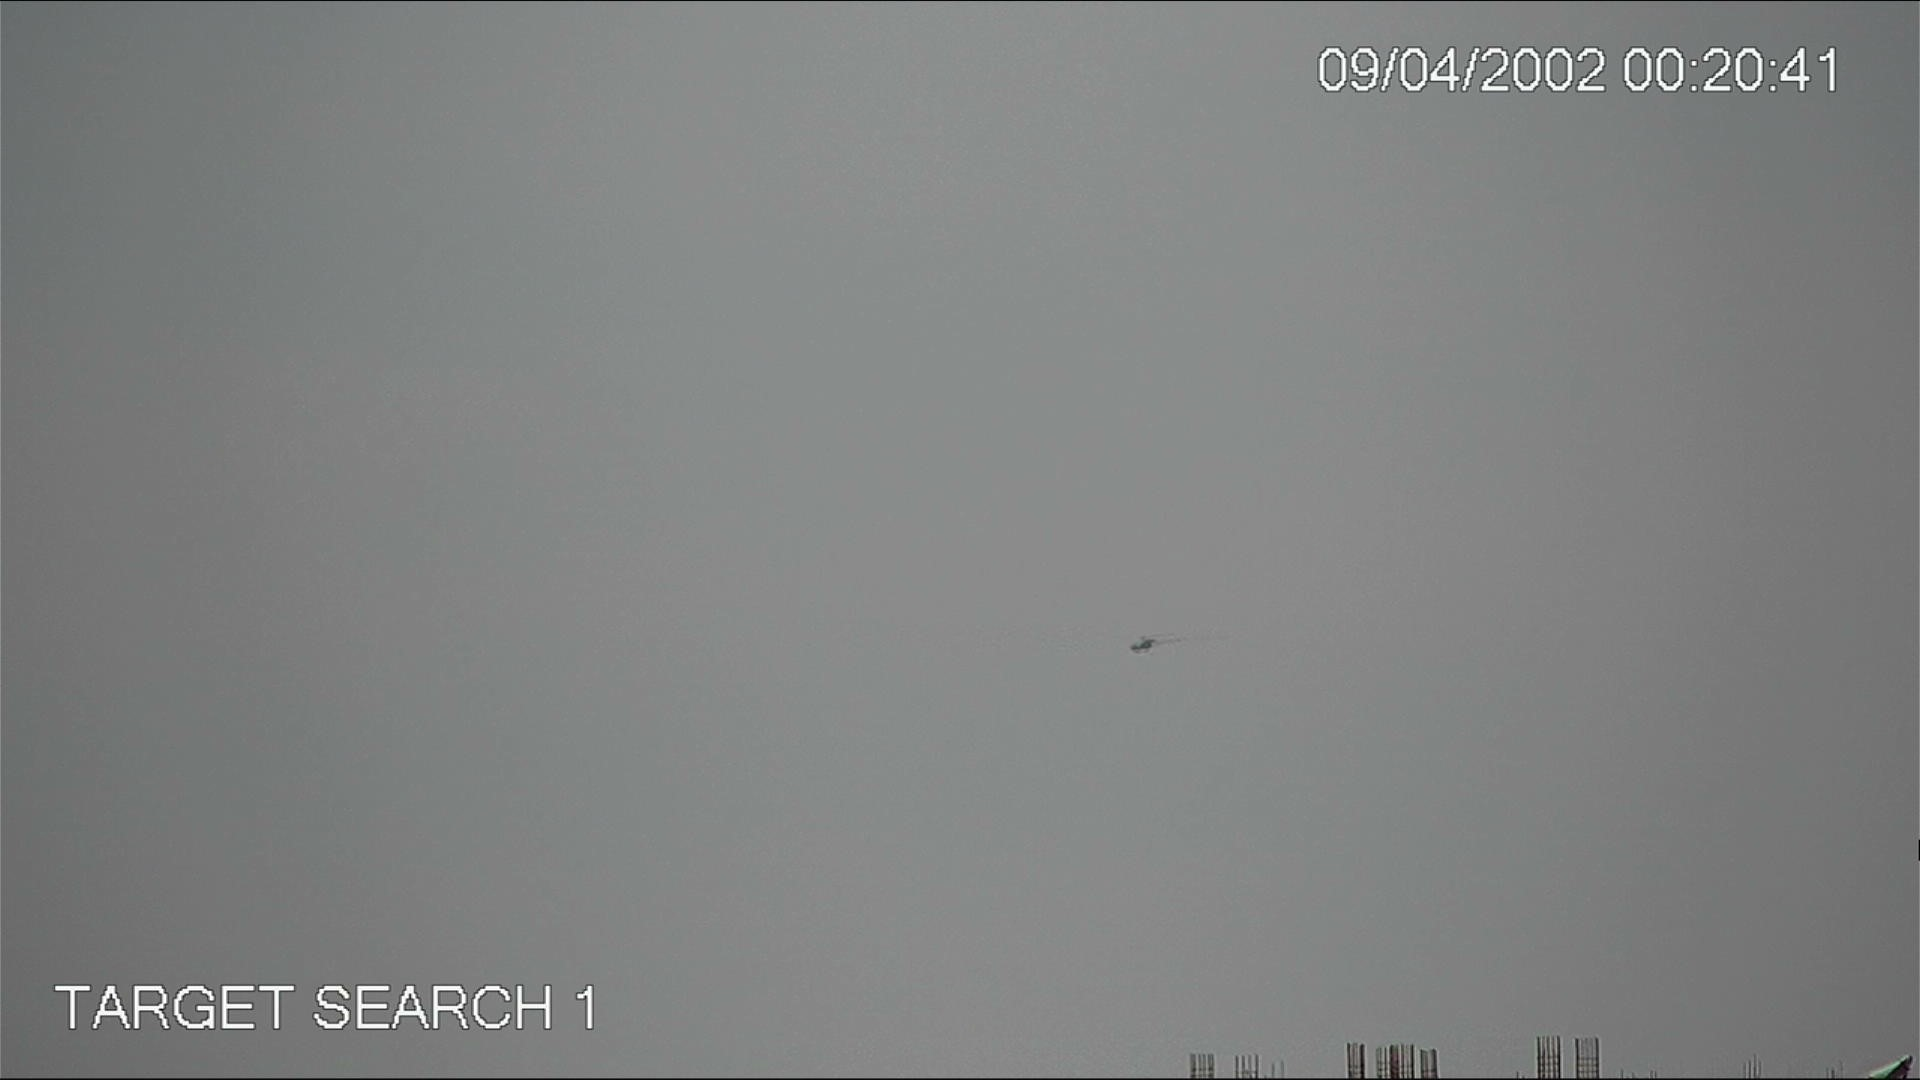SU_30: (1131, 636, 1156, 657)
